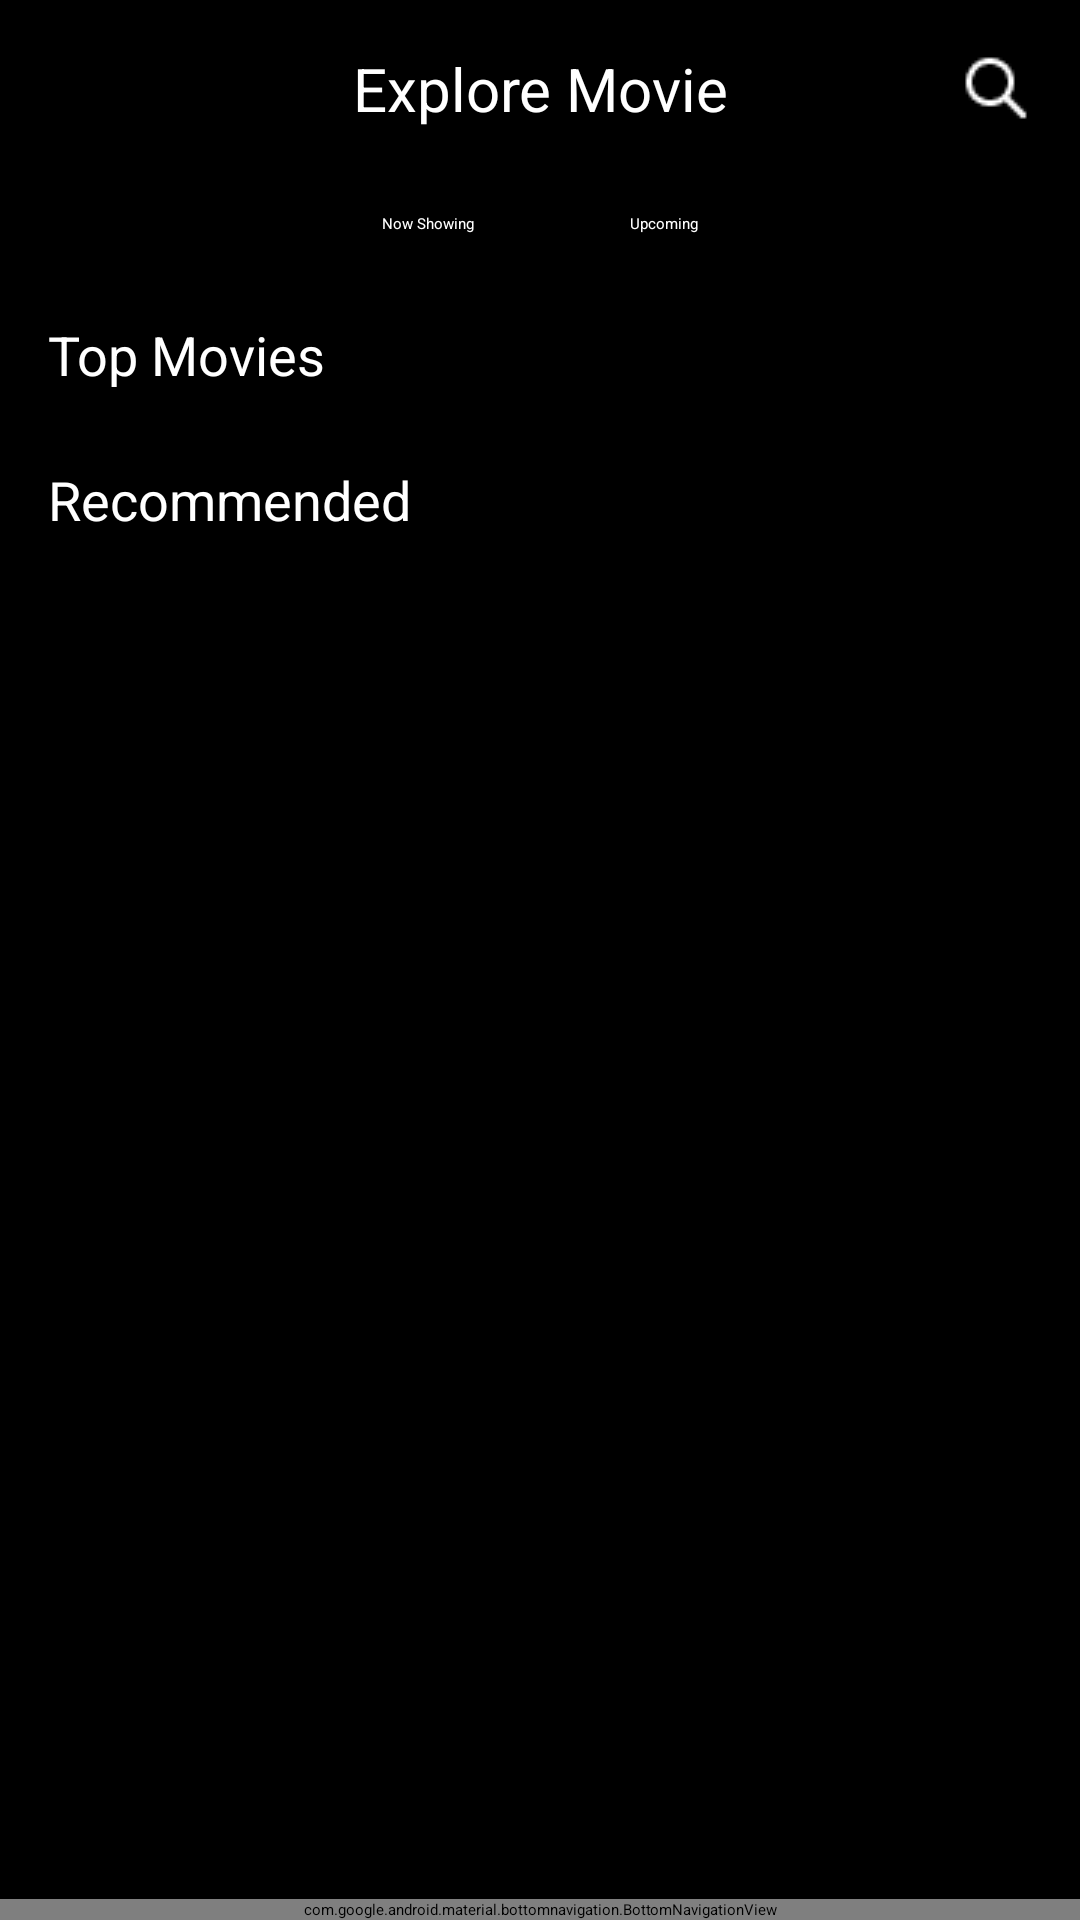

Icons on this 1080*1920 Android screen, each with the point to tap as (x=x, y=y):
Search: (x=996, y=88)
